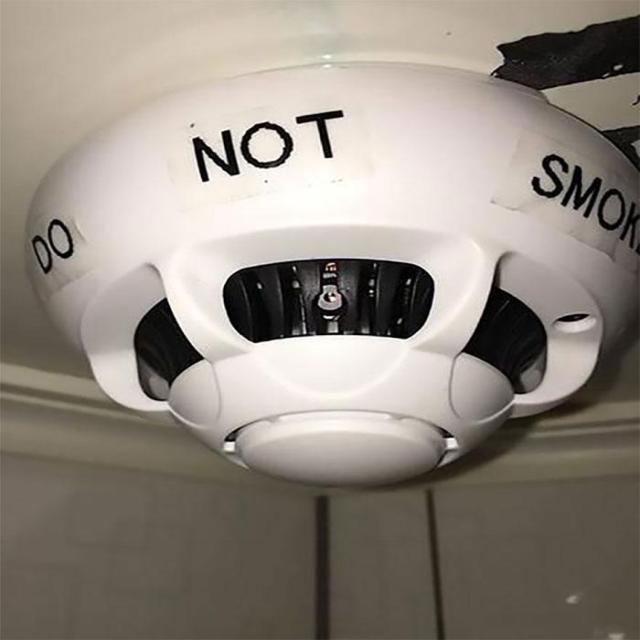hidden camera: (311, 276, 352, 311)
